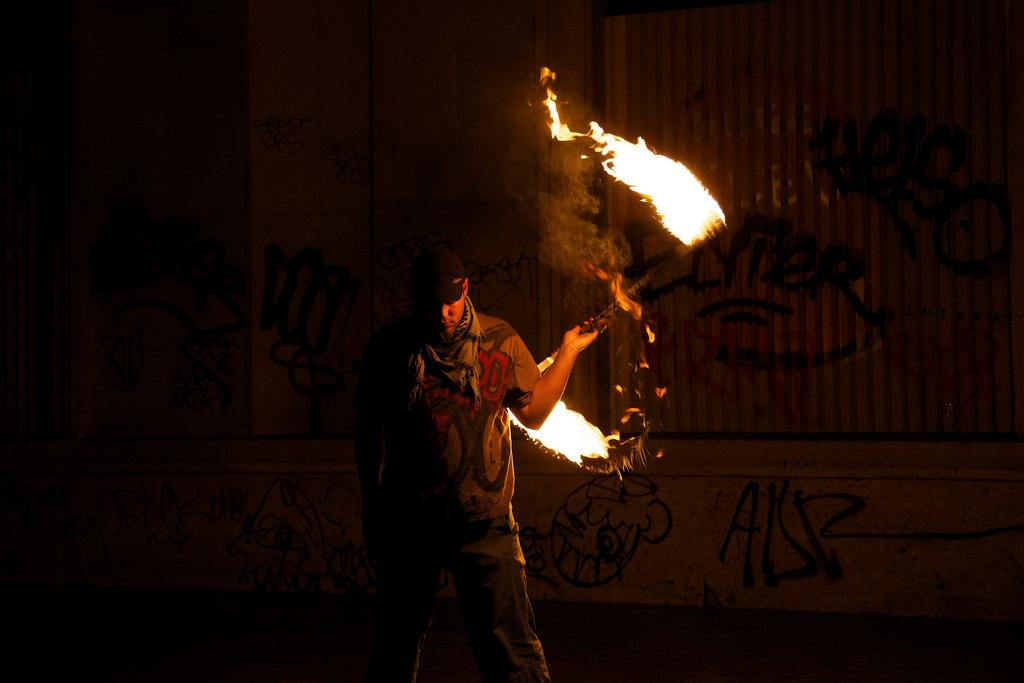fire: (645, 170, 715, 233), (538, 417, 593, 465)
